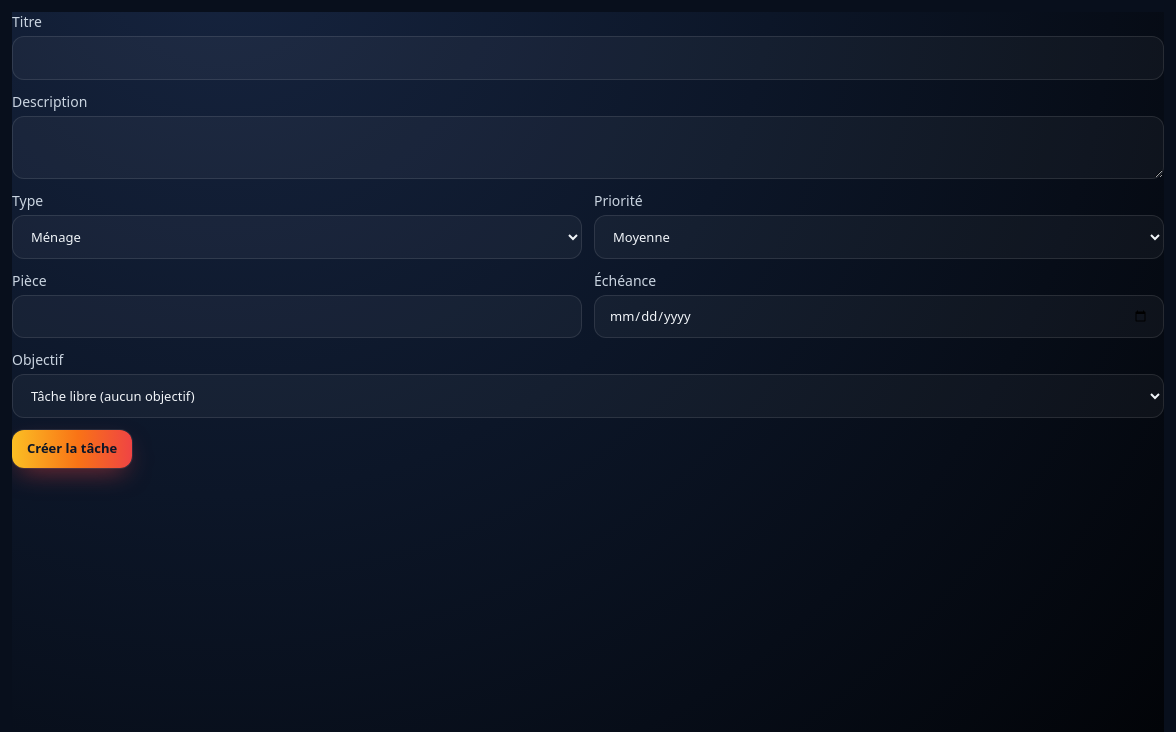
TaskForm › affiche l'erreur si l'enregistrement échoue, au lieu de rester silencieusement bloqué
Type "Nettoyer le garage" into the field labelled "Titre" at x=588, y=58, box [12, 36, 1164, 80]
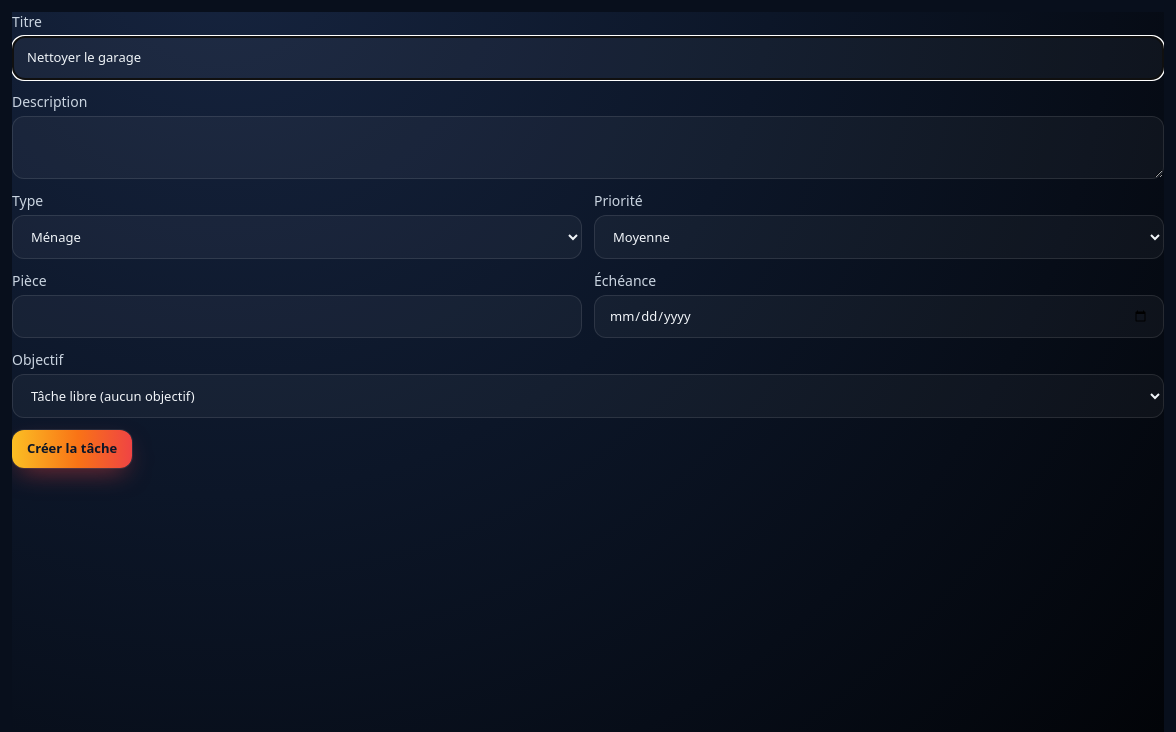
Click the button "Créer la tâche" at x=72, y=449, box [12, 430, 132, 468]
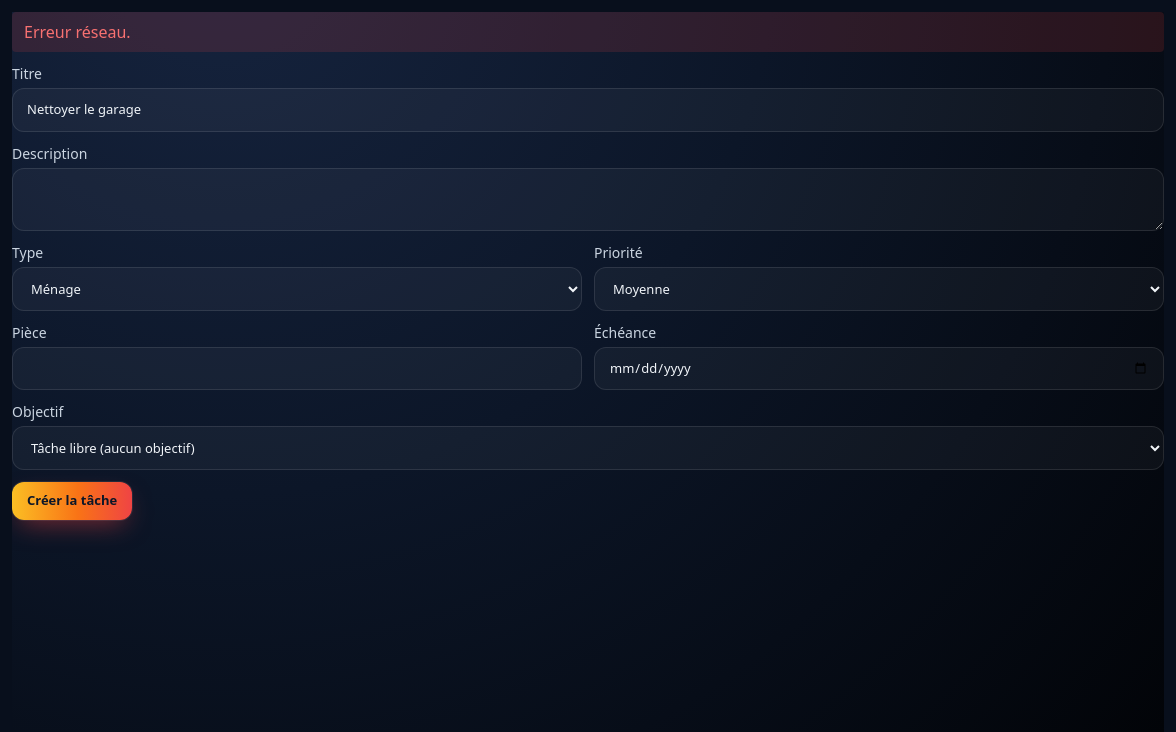
Check: the button "Créer la tâche" is enabled, box [12, 482, 132, 520]
Check: the message reads "Erreur réseau.", box [24, 21, 131, 43]
